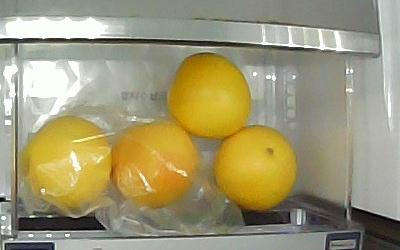grapefruit: (169, 53, 252, 140), (216, 127, 296, 212)
grapefruit_vinyl: (22, 117, 112, 209), (113, 121, 196, 209)
